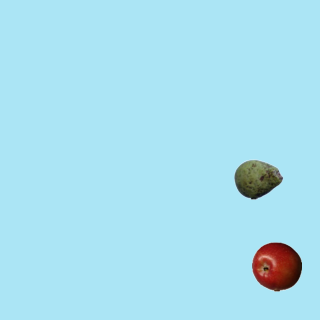Apple Braeburn: (251, 241, 301, 291)
Pear Stone: (233, 154, 283, 204)
